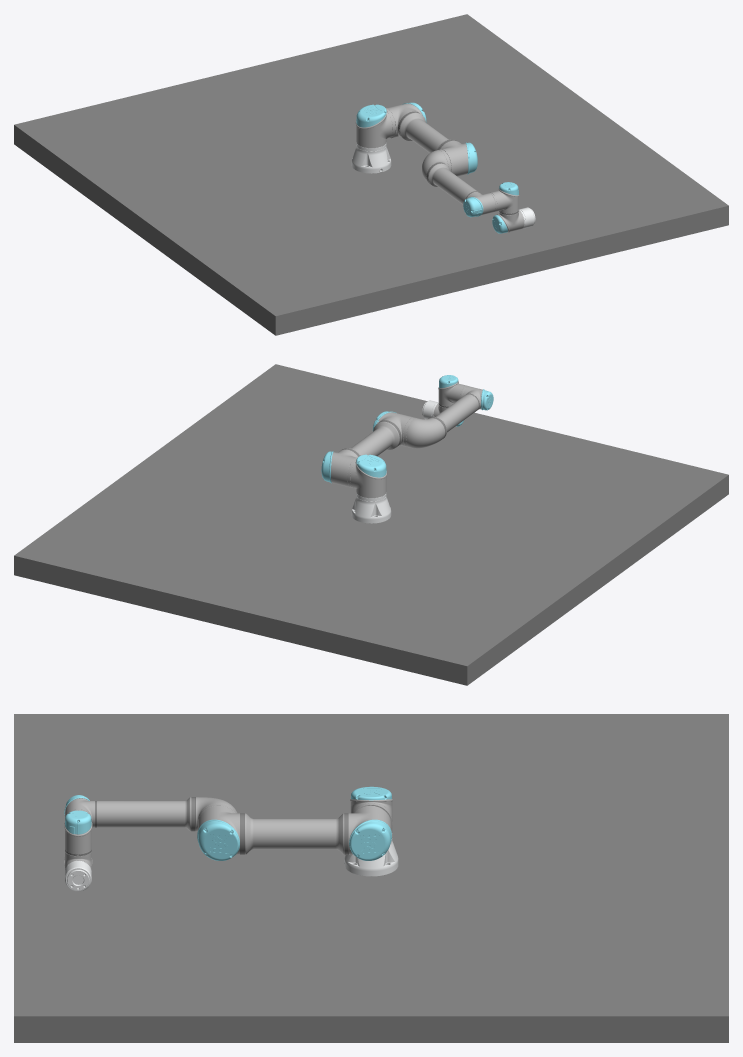
The picture shows the model from 3 angles, top to bottom: view 1: azimuth 30°, elevation 25°; view 2: azimuth 150°, elevation 25°; view 3: azimuth 270°, elevation 25°; orthographic projection. The views are drawn at different scales.
Parts seen in each view (by area): view 1: Cube, Joint_2, Joint_3, Joint_1, base, Joint_4, Joint_5; view 2: Cube, Joint_2, Joint_3, Joint_1, base, Joint_4; view 3: Cube, Joint_2, Joint_3, Joint_4, base, Joint_1, Joint_6.
Part boxes in pixels (x1,y1,x2,y2): Cube: (14,14,728,335); Joint_2: (387,102,477,176); Joint_3: (422,149,495,217); Joint_1: (355,104,395,147); base: (351,143,391,173); Joint_4: (489,182,519,213); Joint_5: (492,210,524,233); Cube: (14,364,728,685); Joint_2: (321,411,413,487); Joint_3: (403,386,493,448); Joint_1: (347,454,387,497); base: (351,493,391,523); Joint_4: (438,375,468,406); Cube: (14,714,728,1042); Joint_2: (197,805,391,860); Joint_3: (64,795,237,831); Joint_4: (64,809,92,853); base: (344,833,398,876); Joint_1: (350,786,392,832); Joint_6: (65,860,91,891).
Bounding box in the file's own units: 2 × 0.317 × 2.
